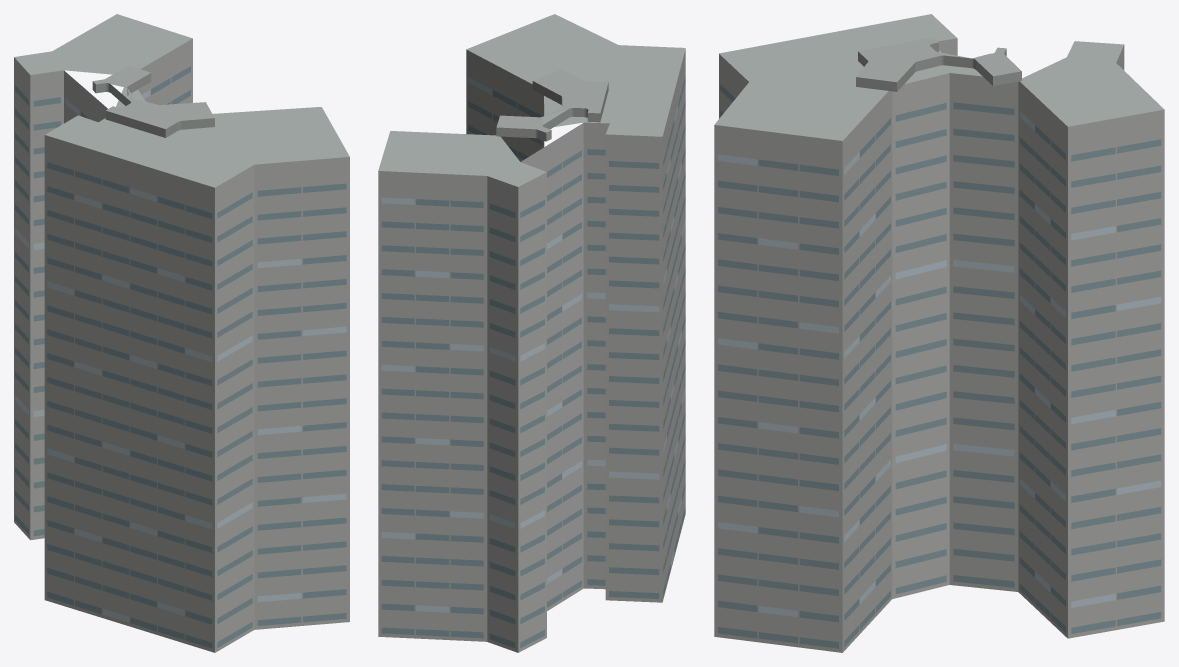
The model's file is apt-a13824001.glb.
3 views of the same model, side by side, from view 1: azimuth 30°, elevation 25°; view 2: azimuth 150°, elevation 25°; view 3: azimuth 270°, elevation 25° (orthographic). The views are drawn at different scales.
Parts seen in each view (by area): view 1: apt-a13824001; view 2: apt-a13824001; view 3: apt-a13824001.
Boxes of the visible parts, x1=… form: apt-a13824001: x1=14, y1=14, x2=349, y2=652; apt-a13824001: x1=378, y1=14, x2=685, y2=652; apt-a13824001: x1=714, y1=14, x2=1164, y2=652.
Size of the model in its own units: 66.84 by 128 by 100.
